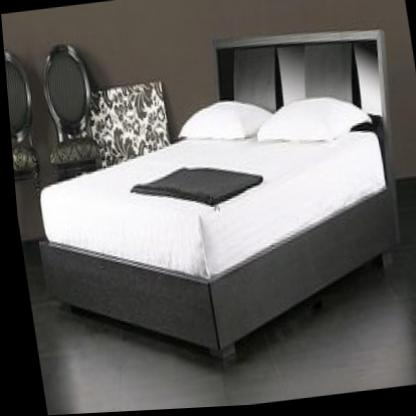Bed: (35, 37, 396, 354)
